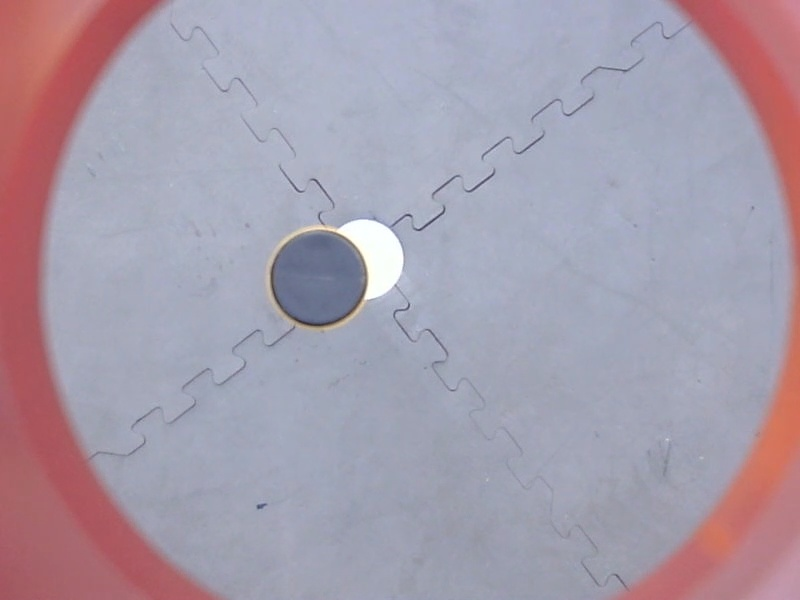tip: (262, 223, 377, 338)
